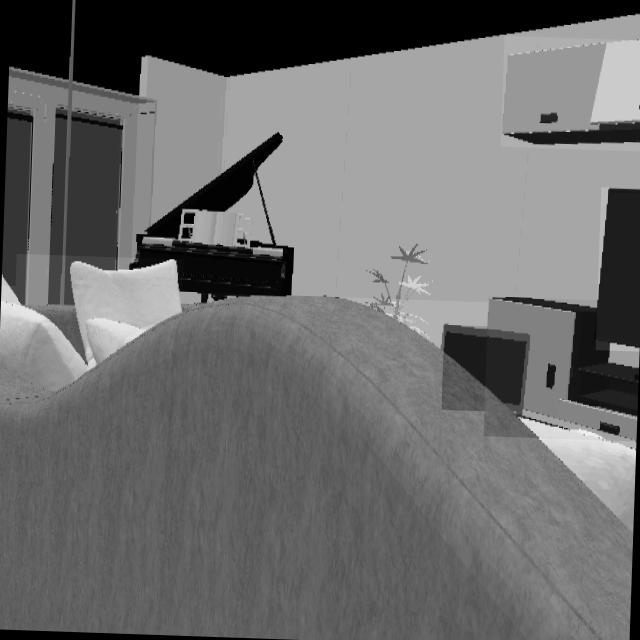cabinet: (487, 297, 639, 441), (501, 42, 640, 147)
laptop: (443, 325, 529, 412)
monitor: (596, 187, 640, 350)
pillow: (12, 259, 181, 392)
sofa: (0, 295, 633, 640)
